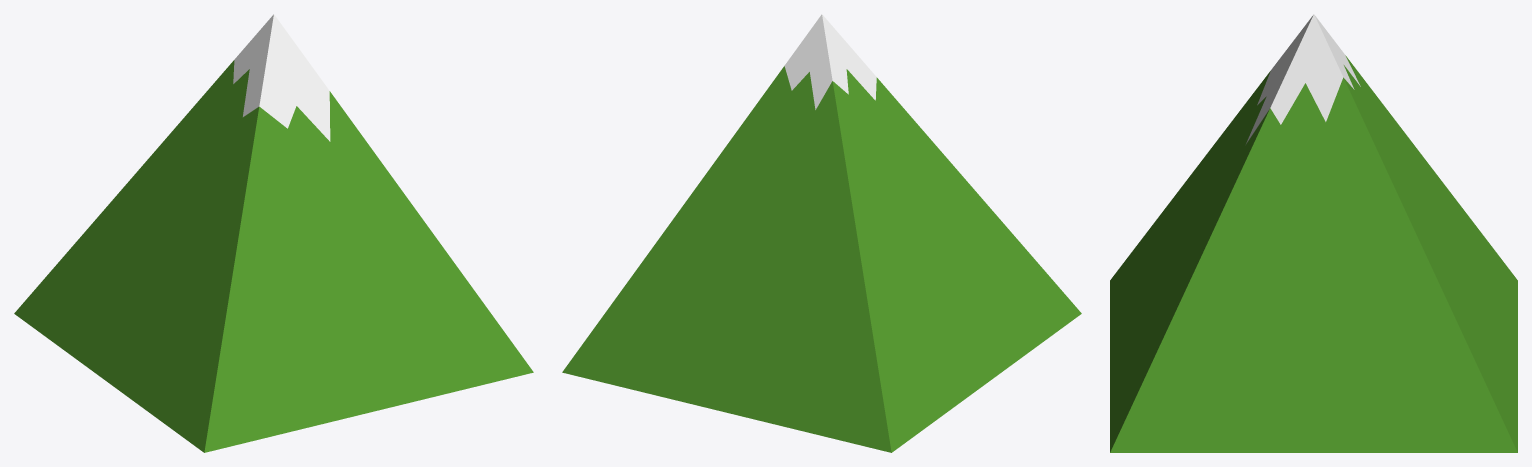
File: Mountain.fbx
The picture shows the model from 3 angles, left to right: view 1: azimuth 30°, elevation 25°; view 2: azimuth 150°, elevation 25°; view 3: azimuth 270°, elevation 25°; orthographic projection. The views are drawn at different scales.
Parts seen in each view (by area): view 1: Cube; view 2: Cube; view 3: Cube.
Boxes of the visible parts, x1=… form: Cube: x1=14, y1=14, x2=533, y2=452; Cube: x1=562, y1=14, x2=1081, y2=452; Cube: x1=1110, y1=14, x2=1517, y2=452.
Size of the model in its own units: 200 by 191 by 200.
